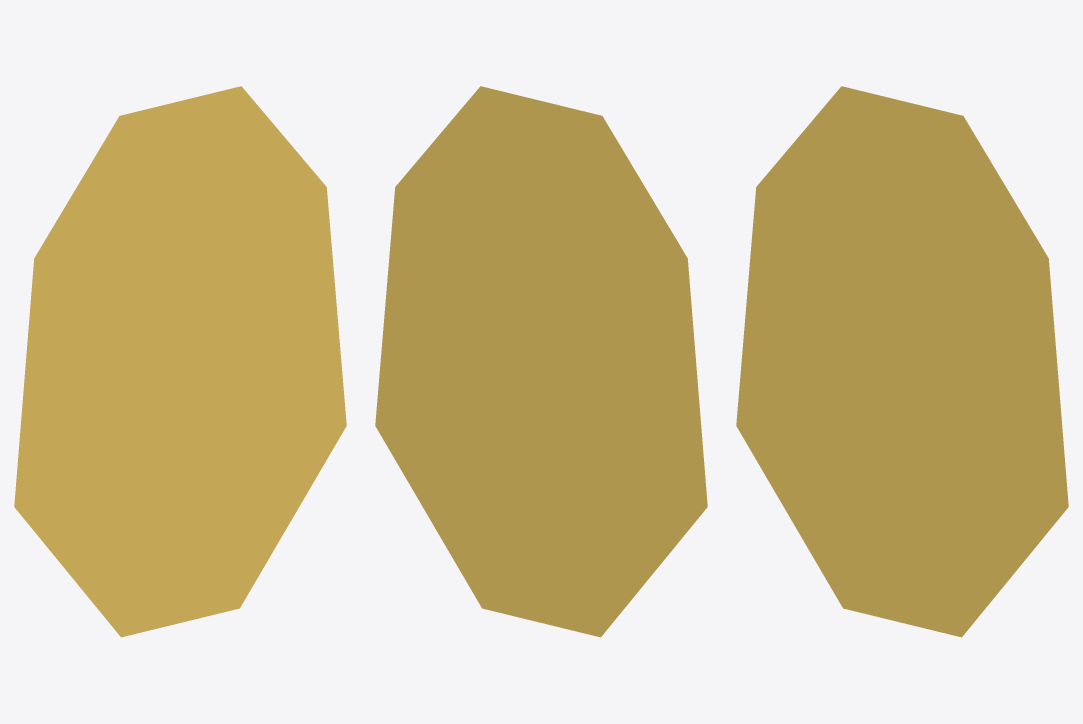
File: fx.particles.glb
The picture shows the model from 3 angles, left to right: view 1: azimuth 30°, elevation 25°; view 2: azimuth 150°, elevation 25°; view 3: azimuth 330°, elevation 25°; orthographic projection.
Visible parts, largest first — view 1: kit_card_particle; view 2: kit_card_particle; view 3: kit_card_particle.
Part boxes in pixels (box(x1,y1,x2,y2)): kit_card_particle: box(14, 86, 346, 637); kit_card_particle: box(375, 86, 707, 637); kit_card_particle: box(736, 86, 1068, 637).
Size of the model in its own units: 0.04 by 0.08 by 0.
1 material, 1 textured.
